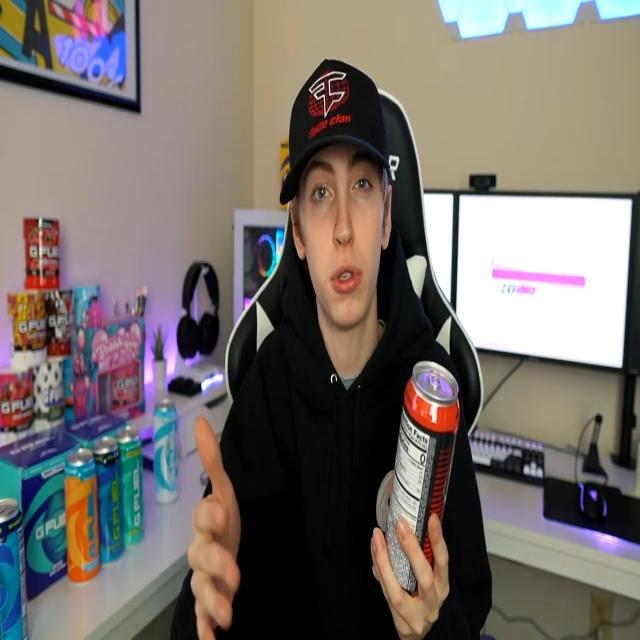can: (63, 448, 101, 584), (92, 434, 127, 564), (116, 429, 146, 547), (152, 398, 178, 507)
